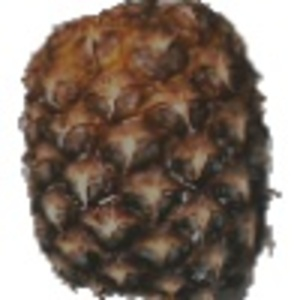abacaxi: (13, 3, 286, 298)
